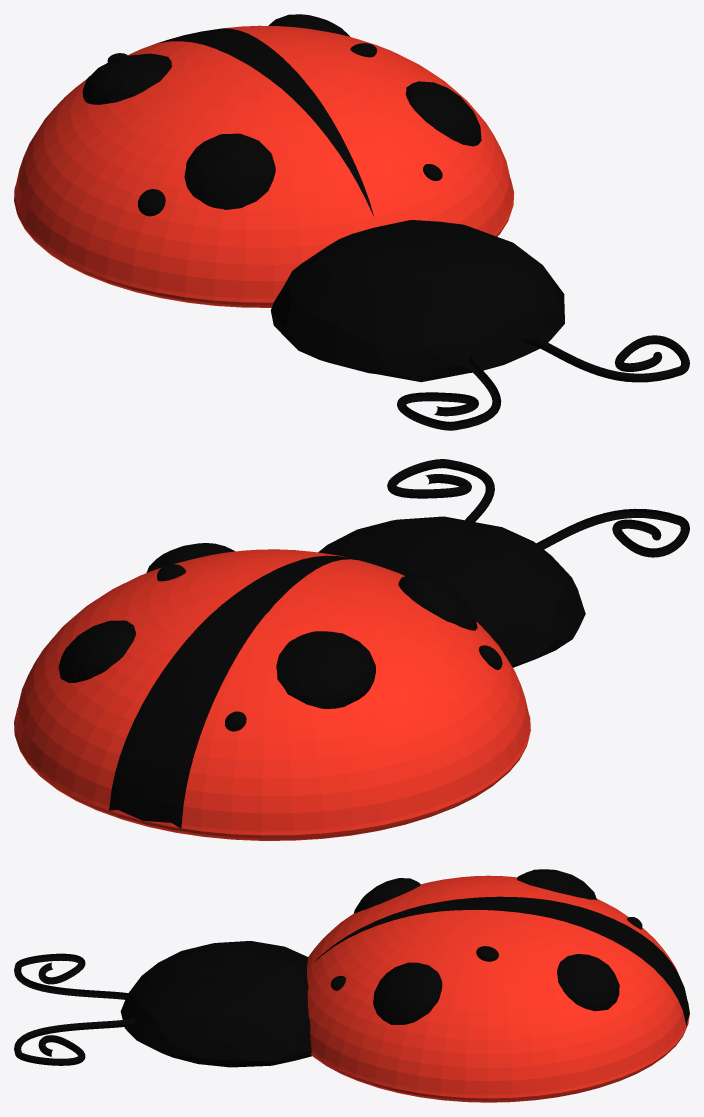
File: kaefer.glb
3 views of the same model, one above another, from view 1: azimuth 30°, elevation 25°; view 2: azimuth 150°, elevation 25°; view 3: azimuth 270°, elevation 25° (orthographic). The views are drawn at different scales.
Visible parts, largest first — view 1: Sphere; view 2: Sphere; view 3: Sphere.
Boxes of the visible parts, left/top/right/bottom form: Sphere: left=14, top=14, right=689, bottom=430; Sphere: left=14, top=459, right=689, bottom=840; Sphere: left=14, top=869, right=689, bottom=1102.
Size of the model in its own units: 3.39 by 1.28 by 5.69.
